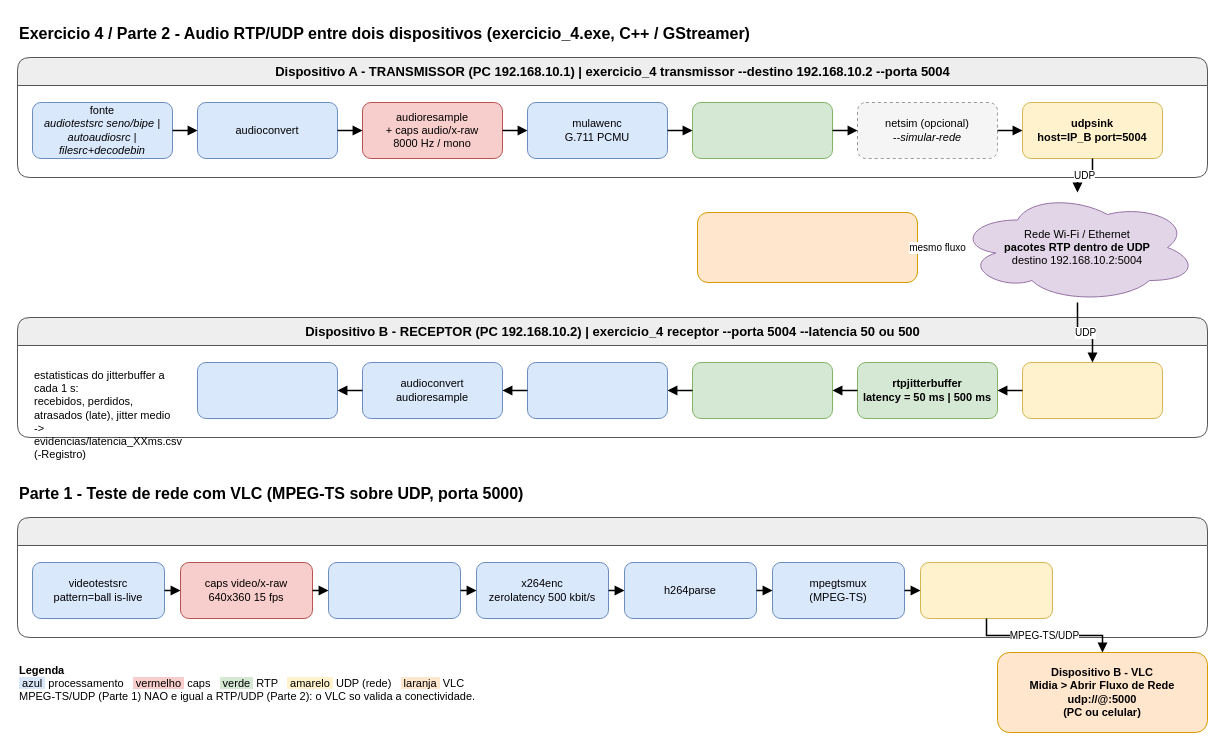
Some shapes in this 1225 by 750 pixel diagram are drawn without their labels. Each missing label, with the box of its shape:
ALTERNATIVA: celular com VLC rtp://@:5004 (PCMU pt 0 e estatico: sem SDP): (696, 212, 918, 282)
autoaudiosink (alto-falante): (196, 362, 338, 418)
Dispositivo A - TRANSMISSOR (gst-launch-1.0): (16, 516, 1208, 638)
mulawdec: (526, 362, 668, 418)
rtppcmudepay (RTP -> PCMU): (692, 362, 832, 418)
rtppcmupay pt=0, 20 ms/pacote (RTP): (692, 102, 832, 158)
udpsink host=IP_B port=5000: (920, 562, 1052, 618)
udpsrc port=5004 caps application/x-rtp PCMU / 8000 Hz / pt 0: (1022, 362, 1162, 418)
videoconvert: (328, 562, 460, 618)
